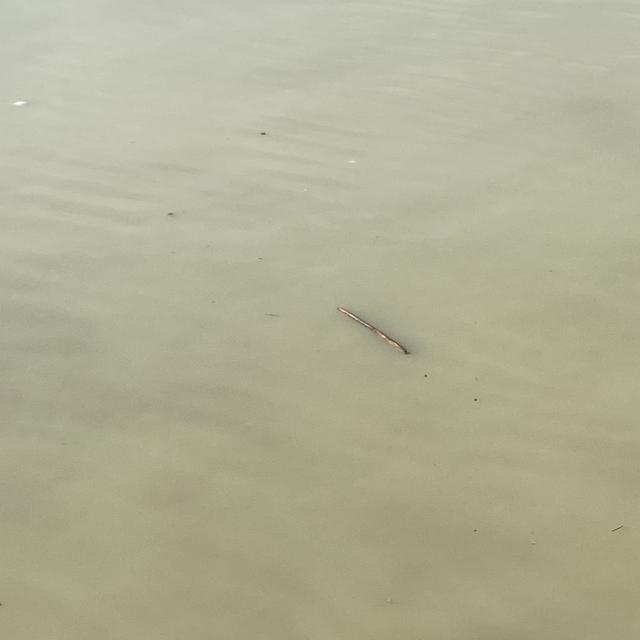Organic Debris: (334, 293, 426, 366), (602, 521, 635, 540), (163, 205, 184, 224), (260, 127, 276, 142), (263, 312, 282, 318), (421, 371, 430, 378), (470, 397, 480, 403), (472, 528, 478, 534)
Plastic: (344, 153, 378, 173), (10, 99, 32, 111)
